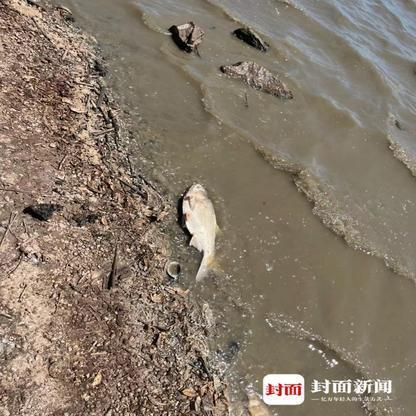deceased fish: (180, 184, 225, 280)
